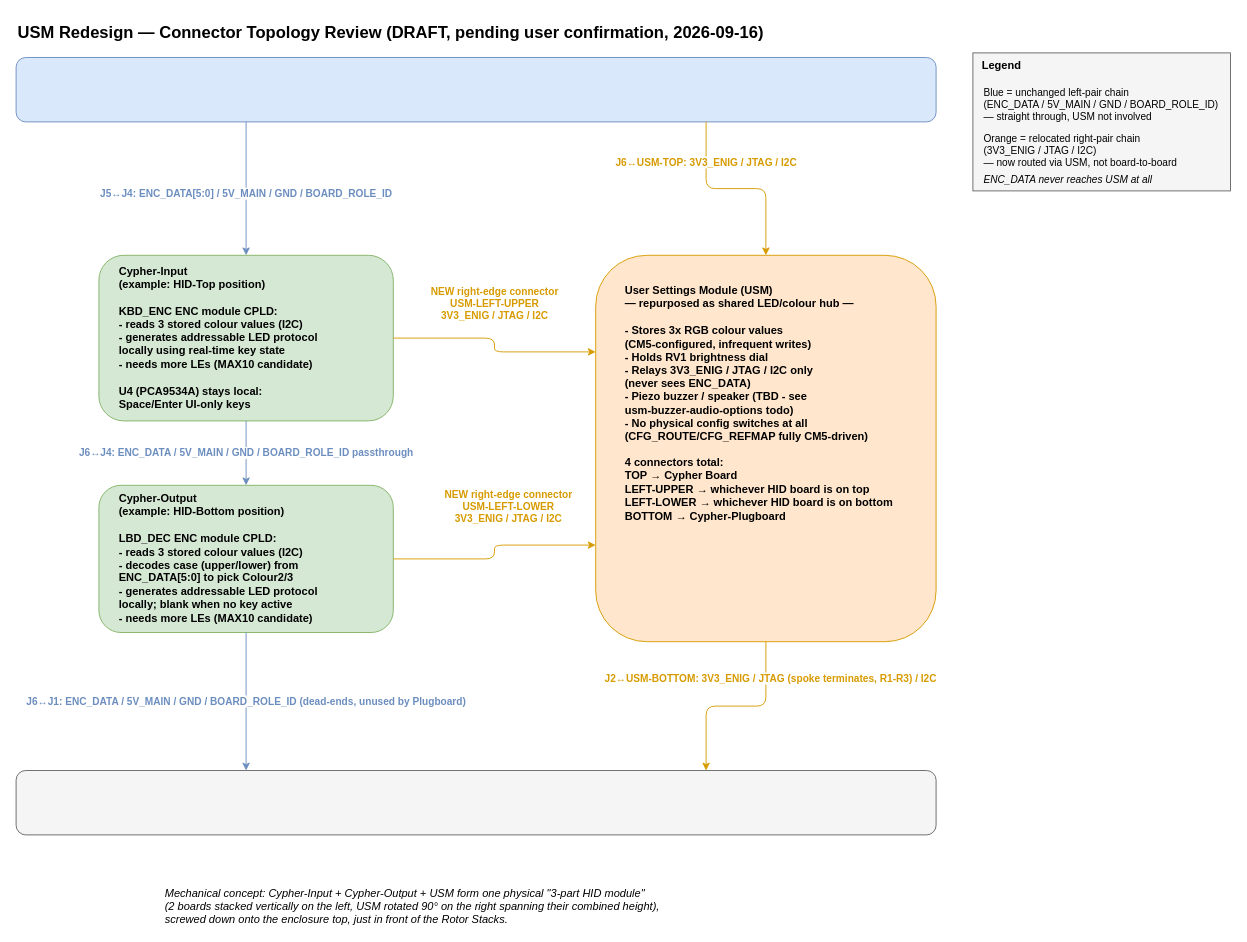
The diagram is 1247 pixels wide and 942 high, and some of its shapes have lost their labels. The centre of each missing label's shape, as x and y in pixels:
"Cypher Board (J5 = left, J6 = right, per Cypher/Board_Layout.md §4)" belongs at [475,89].
"Cypher-Plugboard (J1 = left, J2 = right) JTAG spoke terminator (R1-R3)" belongs at [475,802].
